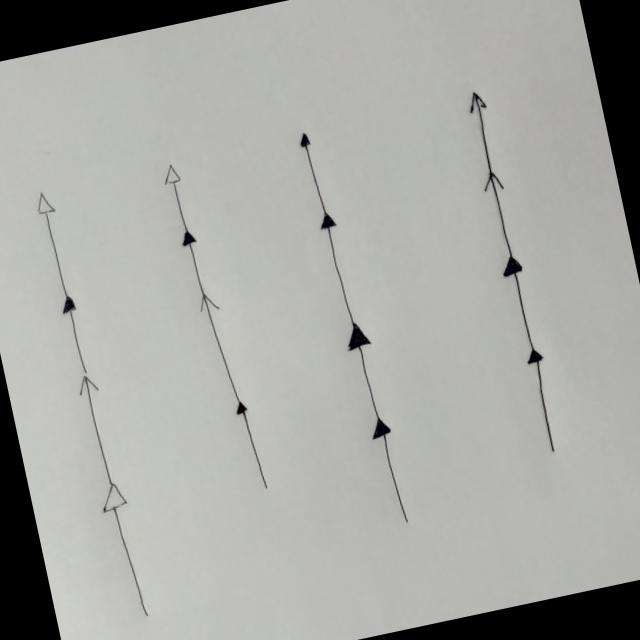arrow_line_up: (95, 482, 157, 624), (366, 415, 420, 531), (314, 212, 365, 330), (338, 321, 394, 426), (194, 289, 244, 403), (73, 372, 120, 486), (496, 252, 548, 354), (30, 190, 76, 300), (522, 346, 568, 456), (230, 397, 274, 496), (478, 168, 524, 258), (293, 126, 336, 218), (463, 88, 504, 174), (56, 292, 95, 378), (176, 225, 214, 298), (158, 158, 195, 230)
